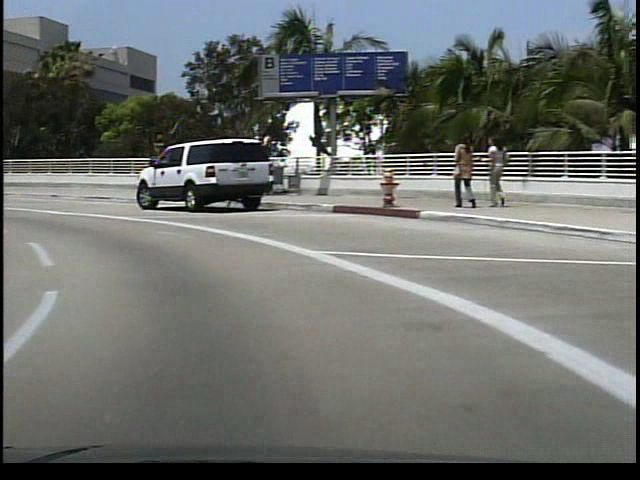person: (476, 134, 504, 211), (445, 131, 470, 215)
